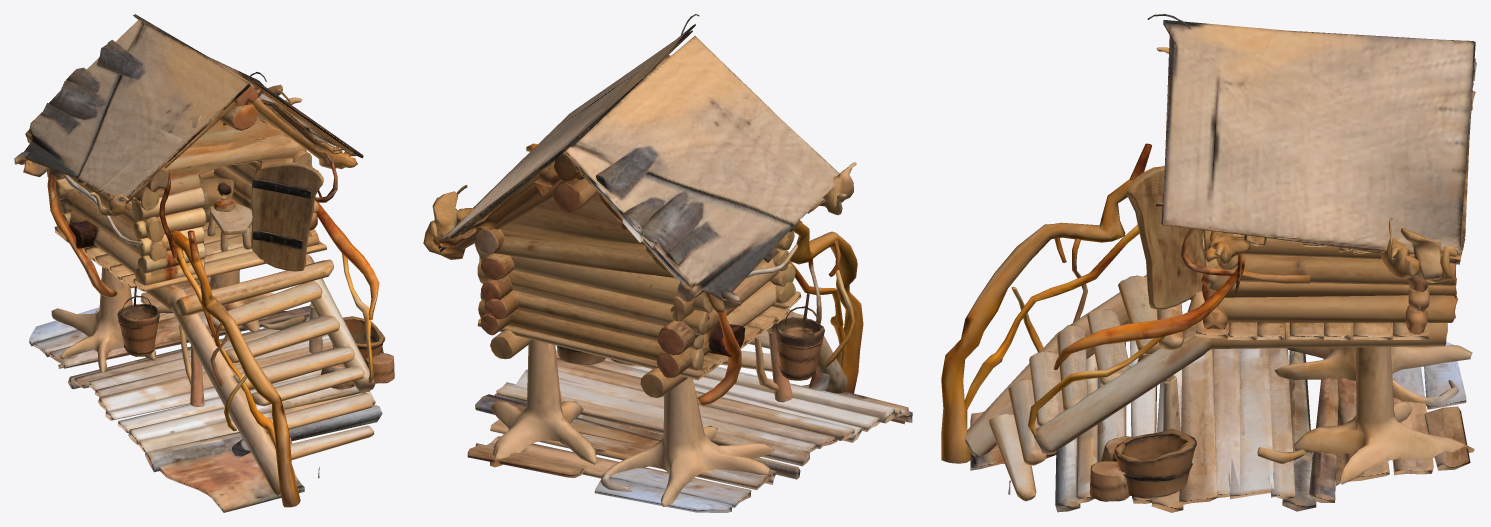
File: Meshy_AI_Log_Cabin_Treehouse_0721014022_texture.glb
3 renders of one model, left to right at view 1: azimuth 30°, elevation 25°; view 2: azimuth 150°, elevation 25°; view 3: azimuth 270°, elevation 25°, orthographic. The views are drawn at different scales.
Size of the model in its own units: 0.7949 by 0.9902 by 1.
1 material, 1 textured.
